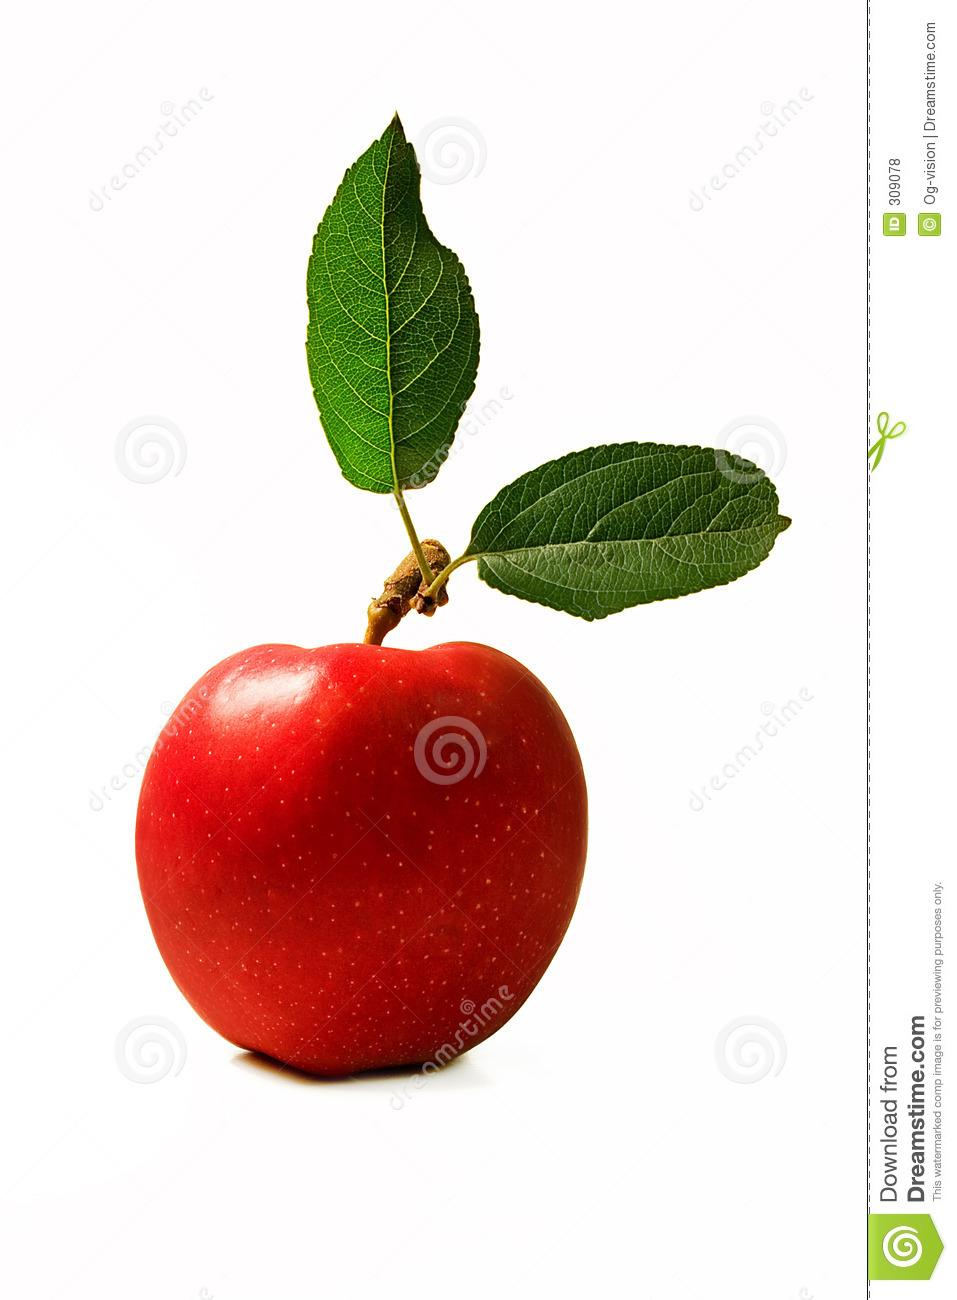Apple leaf: (294, 101, 505, 530), (473, 448, 840, 643)
